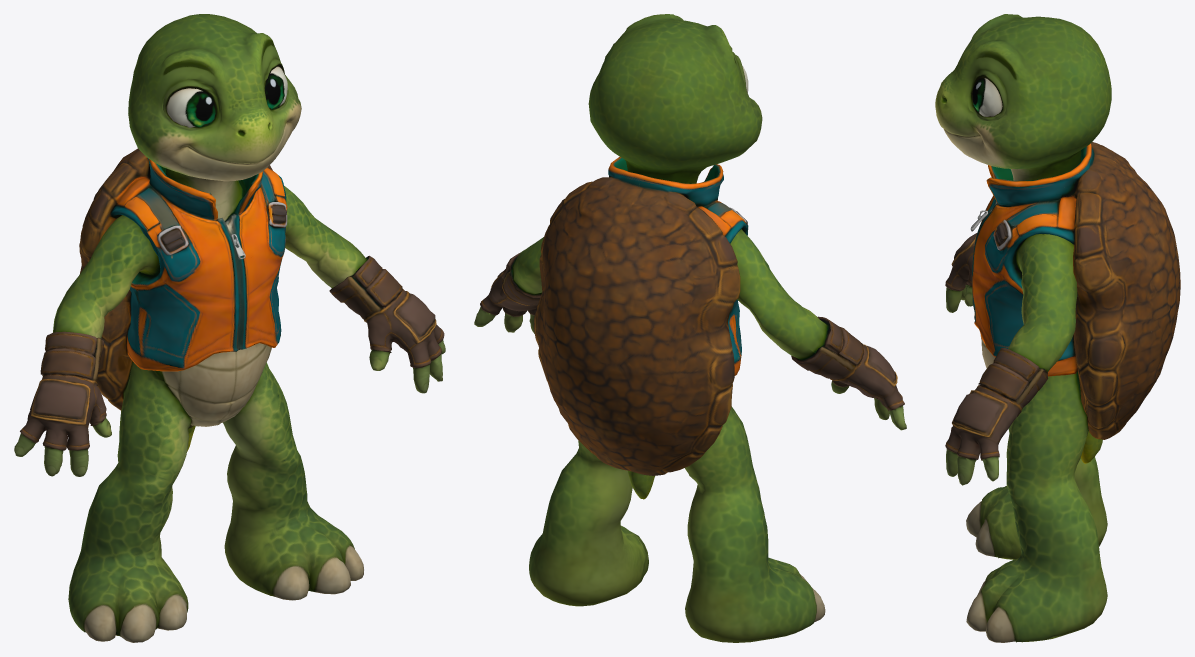
File: turtle.glb
3 views of the same model, side by side, from view 1: azimuth 30°, elevation 25°; view 2: azimuth 150°, elevation 25°; view 3: azimuth 270°, elevation 25° (orthographic). The views are drawn at different scales.
Parts seen in each view (by area): view 1: geometry_0; view 2: geometry_0; view 3: geometry_0.
Part boxes in pixels (x1=…): geometry_0: x1=14, y1=14, x2=445, y2=642; geometry_0: x1=474, y1=14, x2=906, y2=642; geometry_0: x1=935, y1=14, x2=1180, y2=642.
Bounding box in the file's own units: 0.7515 × 0.9512 × 0.3809.
Materials: 1 (1 with a texture image).
